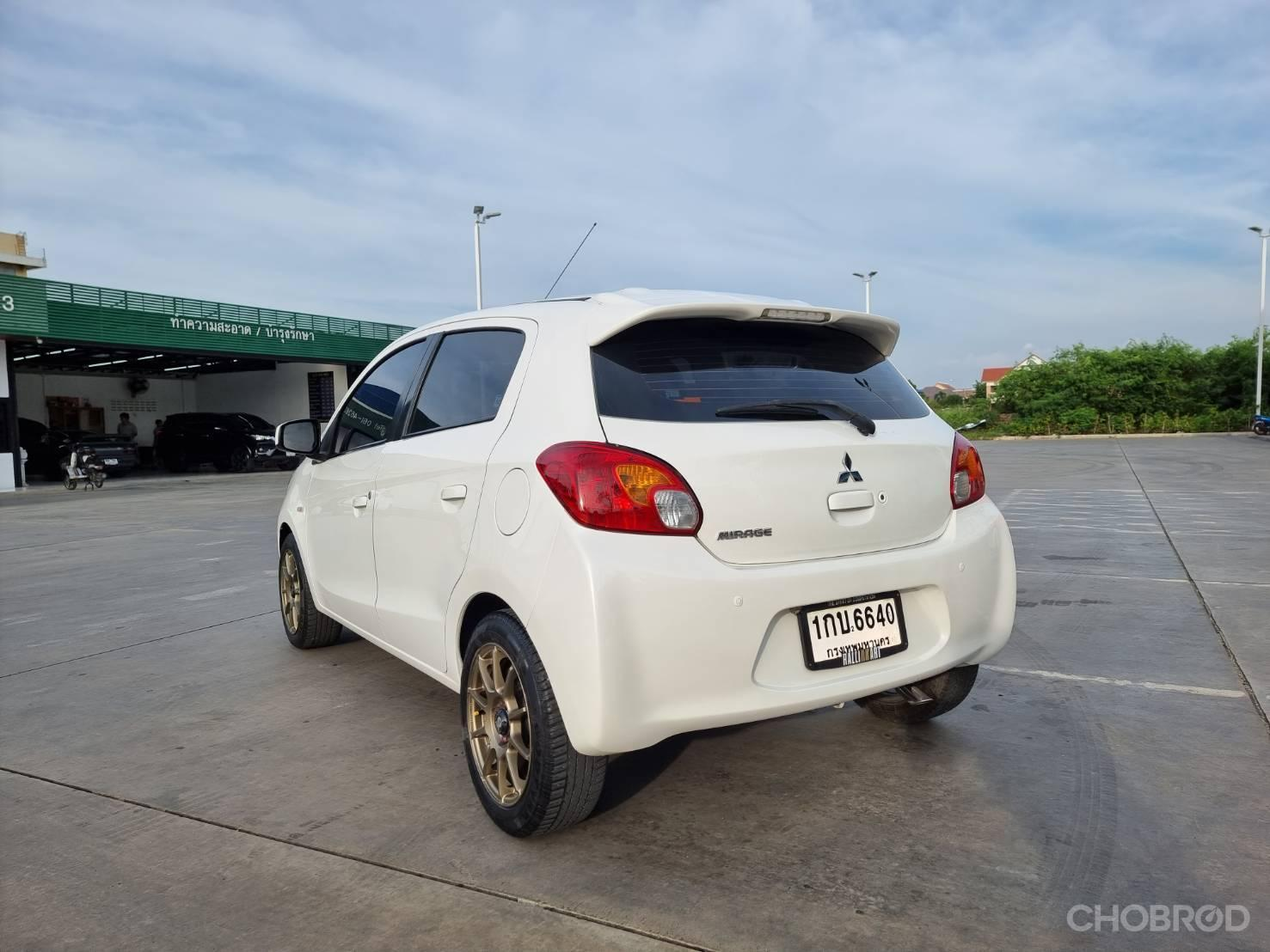license-plate: (794, 586, 909, 675)
